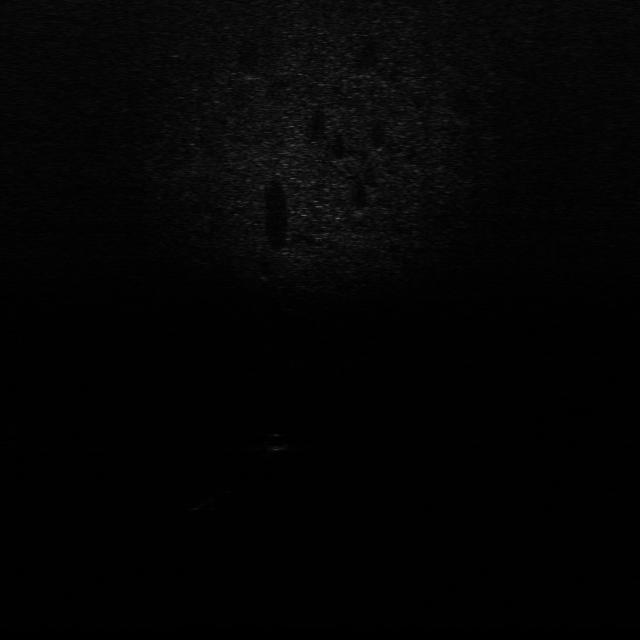ball: (264, 429, 287, 455)
